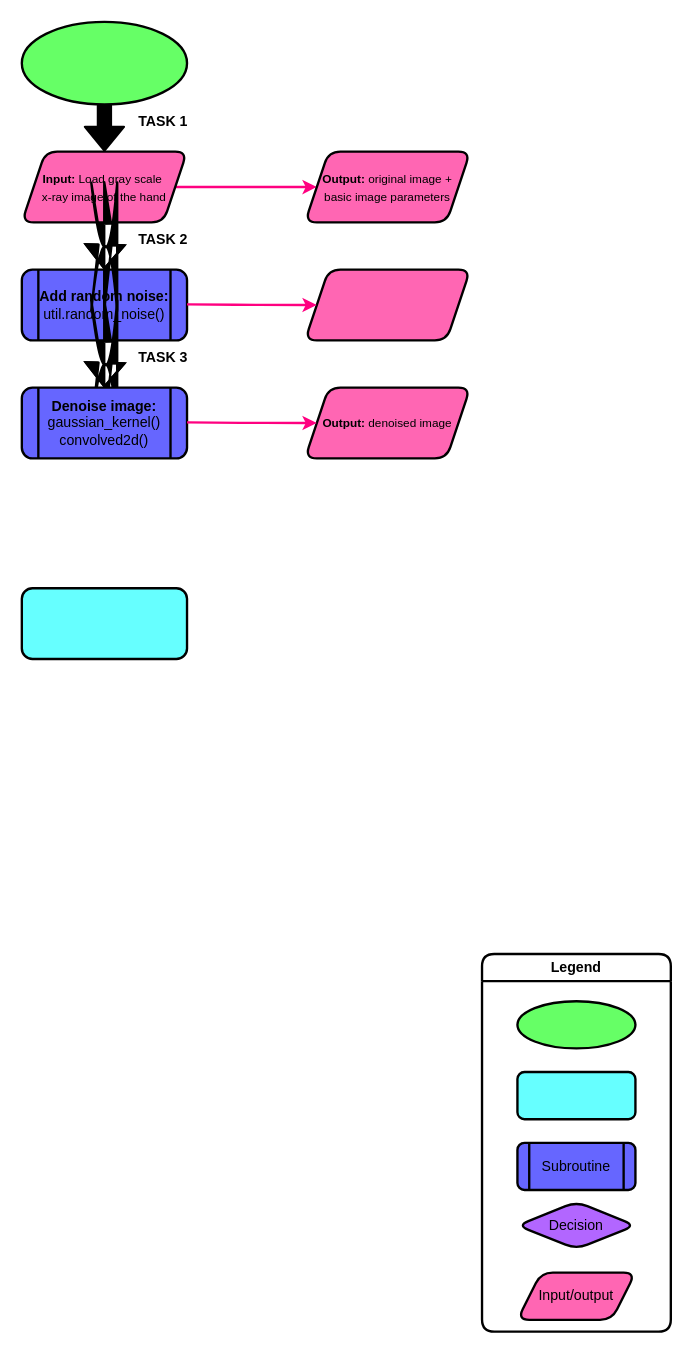
The diagram is 691 pixels wide and 1352 high, and some of its shapes have lost their labels. Each missing label, with the box of its shape:
Output: noisy image: (303, 268, 471, 341)
Process: (516, 1070, 636, 1120)
Start: (20, 20, 188, 105)
Start/stop: (516, 999, 636, 1049)
